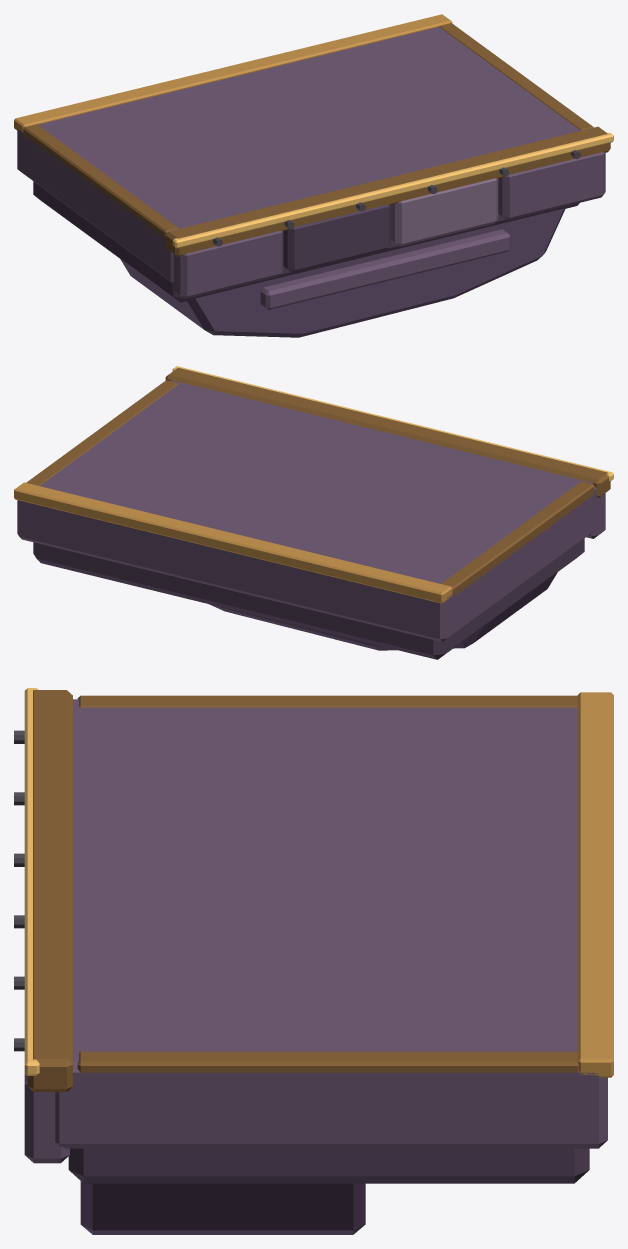
Rendered from SM_Vault_RetakeDeck_07.fbx.
3 renders of one model, top to bottom at view 1: azimuth 30°, elevation 25°; view 2: azimuth 150°, elevation 25°; view 3: azimuth 270°, elevation 25°, orthographic. The views are drawn at different scales.
Visible parts, largest first — view 1: SM_Vault_RetakeDeck_07; view 2: SM_Vault_RetakeDeck_07; view 3: SM_Vault_RetakeDeck_07.
Boxes of the visible parts, x1=… form: SM_Vault_RetakeDeck_07: x1=14, y1=14, x2=613, y2=337; SM_Vault_RetakeDeck_07: x1=14, y1=366, x2=613, y2=659; SM_Vault_RetakeDeck_07: x1=14, y1=688, x2=613, y2=1234.
Bounding box in the file's own units: 294 × 198 × 93.
